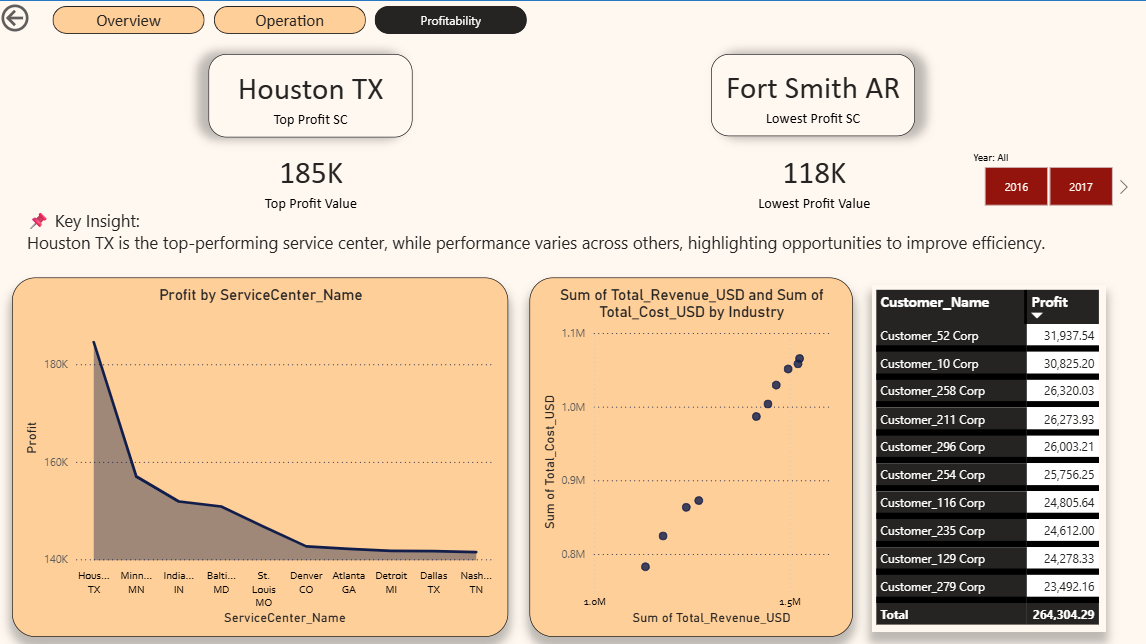

The page's visual inventory and layout, read from the dashboard file:
{"tool":"powerbi","page":{"name":"Profitability","canvas":[1280,720],"ordinal":2},"visuals":[{"type":"group","id":"g1","title":"Group 1","box":[235.2,59.9,226.9,185.5],"z":0,"group":"g3"},{"type":"shape","box":[0,0,1280.9,720.5],"z":1000},{"type":"group","id":"g2","title":"Group 2","box":[793.4,59.9,226.9,185.5],"z":1000,"group":"g3"},{"type":"textbox","box":[28.2,226.9,1187.7,64.6],"z":1500},{"type":"pivotTable","fields":{"Rows":["DIM_Customers.Customer_Name"],"Values":["FACT_Shipments.Profit"]},"box":[971.7,316.7,260,385],"z":2000},{"type":"scatterChart","fields":{"X":["Sum(FACT_Shipments.Total_Revenue_USD)"],"Y":["Sum(FACT_Shipments.Total_Cost_USD)"],"Category":["DIM_Customers.Industry"]},"box":[591.4,309.1,359.5,399.2],"z":3000},{"type":"areaChart","fields":{"Y":["FACT_Shipments.Profit"],"Category":["DIM_ServiceCenters.ServiceCenter_Name"]},"box":[16.6,309.1,551.6,399.2],"z":4000},{"type":"pageNavigator","box":[61.3,6.6,528.4,31.5],"z":5000},{"type":"card","fields":{"Values":["FACT_Shipments.Top Profit Value"]},"box":[266.7,152.7,164,92.8],"z":5000,"group":"g1"},{"type":"actionButton","box":[0,0,100,40],"z":6000},{"type":"card","fields":{"Values":["FACT_Shipments.Lowest Profit SC"]},"box":[793.4,59.9,226.9,91.1],"z":6000,"group":"g2"},{"type":"group","id":"g3","title":"Group 3","box":[235.2,59.9,785.2,185.5],"z":7000},{"type":"card","fields":{"Values":["FACT_Shipments.Top Profit SC"]},"box":[235.2,59.9,226.9,92.8],"z":7000,"group":"g1"},{"type":"slicer","fields":{"Values":["DIM_Equipment.Year"]},"box":[1071.7,161.7,191.7,73.3],"z":7001},{"type":"card","fields":{"Values":["FACT_Shipments.Lowest Profit Value"]},"box":[824.9,152.7,165.6,92.8],"z":9000,"group":"g2"}]}

Visuals, with their boxes in screenshot pixels (x1, y1, x2, y2), scaled from the page's 1280x720 canvas onto the 1146x644 screenshot:
"Group 1" group: 211,54,414,219
shape: 0,0,1145,643
"Group 2" group: 710,54,913,219
textbox: 25,203,1089,261
pivotTable - DIM_Customers.Customer_Name x FACT_Shipments.Profit: 870,283,1103,628
scatterChart - Sum(FACT_Shipments.Total_Revenue_USD) x Sum(FACT_Shipments.Total_Cost_USD): 529,276,851,634
areaChart - FACT_Shipments.Profit x DIM_ServiceCenters.ServiceCenter_Name: 15,276,509,634
pageNavigator: 55,6,528,34
card - FACT_Shipments.Top Profit Value: 239,137,386,220
actionButton: 0,0,90,36
card - FACT_Shipments.Lowest Profit SC: 710,54,913,135
"Group 3" group: 211,54,914,219
card - FACT_Shipments.Top Profit SC: 211,54,414,137
slicer - DIM_Equipment.Year: 960,145,1131,210
card - FACT_Shipments.Lowest Profit Value: 739,137,887,220
